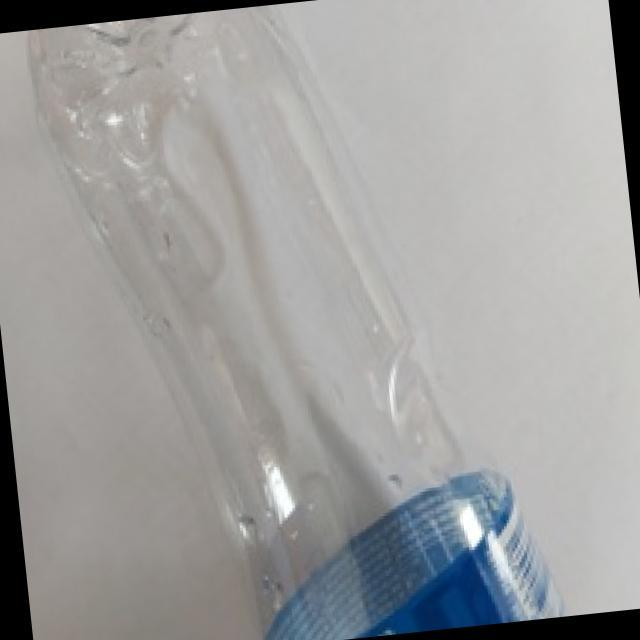good: (6, 0, 623, 640)
